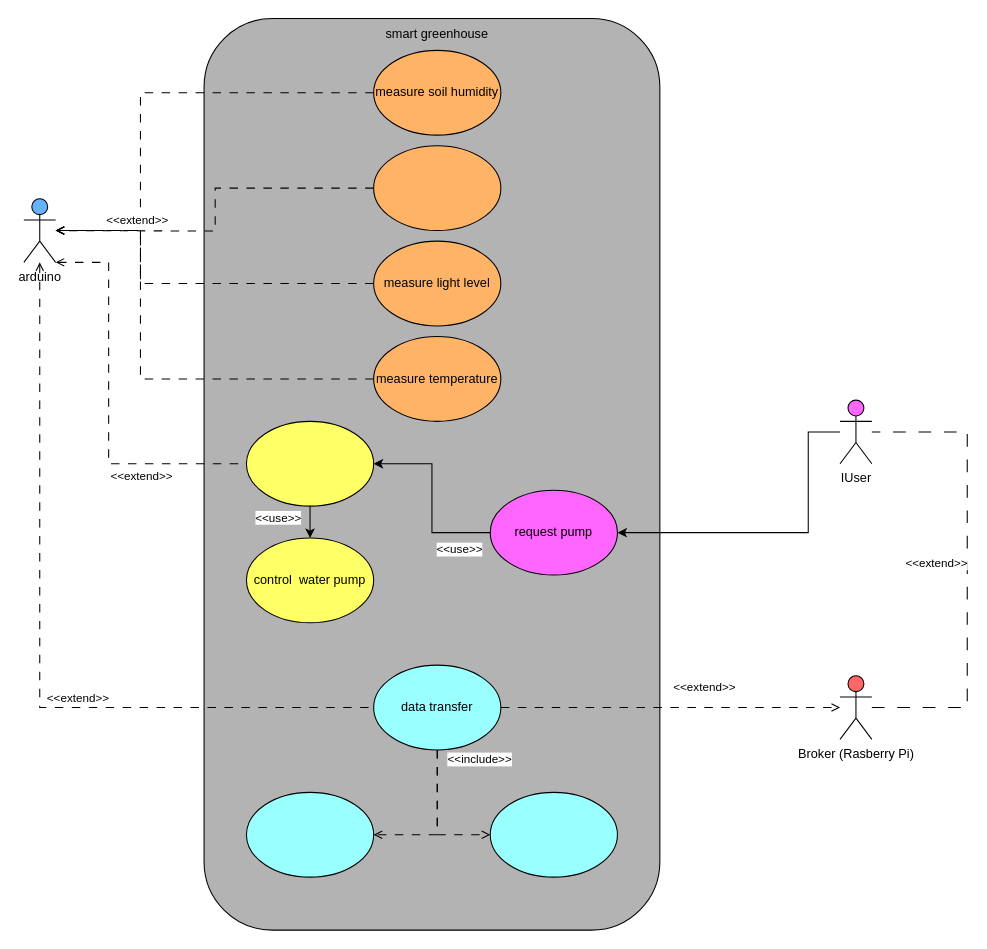
Image size: 987x949. Some labels were removed from this diagram. Here are the shapes that lost their labels. From the top down, the centre of each, then its label:
At point 437,188: "measure humidity".
At point 309,463: "control relay".
At point 309,834: "send data".
At point 553,834: "request data".
